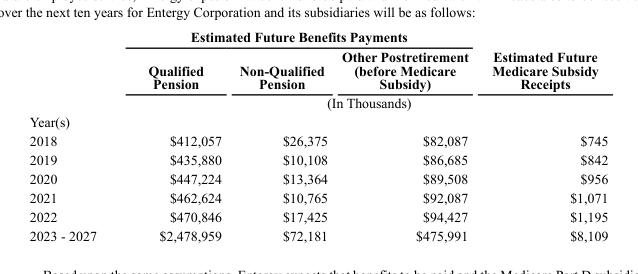table: (28, 29, 607, 242)
table column: (333, 29, 479, 242), (479, 29, 607, 242), (121, 29, 229, 242), (229, 29, 333, 242), (28, 29, 121, 242)
table column header: (28, 29, 607, 112)
table projected row header: (28, 112, 607, 131)
table row: (28, 46, 607, 93), (28, 93, 607, 112), (28, 112, 607, 131), (28, 149, 607, 168), (28, 168, 607, 187), (28, 187, 607, 206), (28, 206, 607, 225), (28, 131, 607, 149), (28, 29, 607, 46), (28, 225, 607, 242)
table spanning cell: (121, 93, 607, 112), (479, 29, 607, 93), (121, 29, 479, 46)
